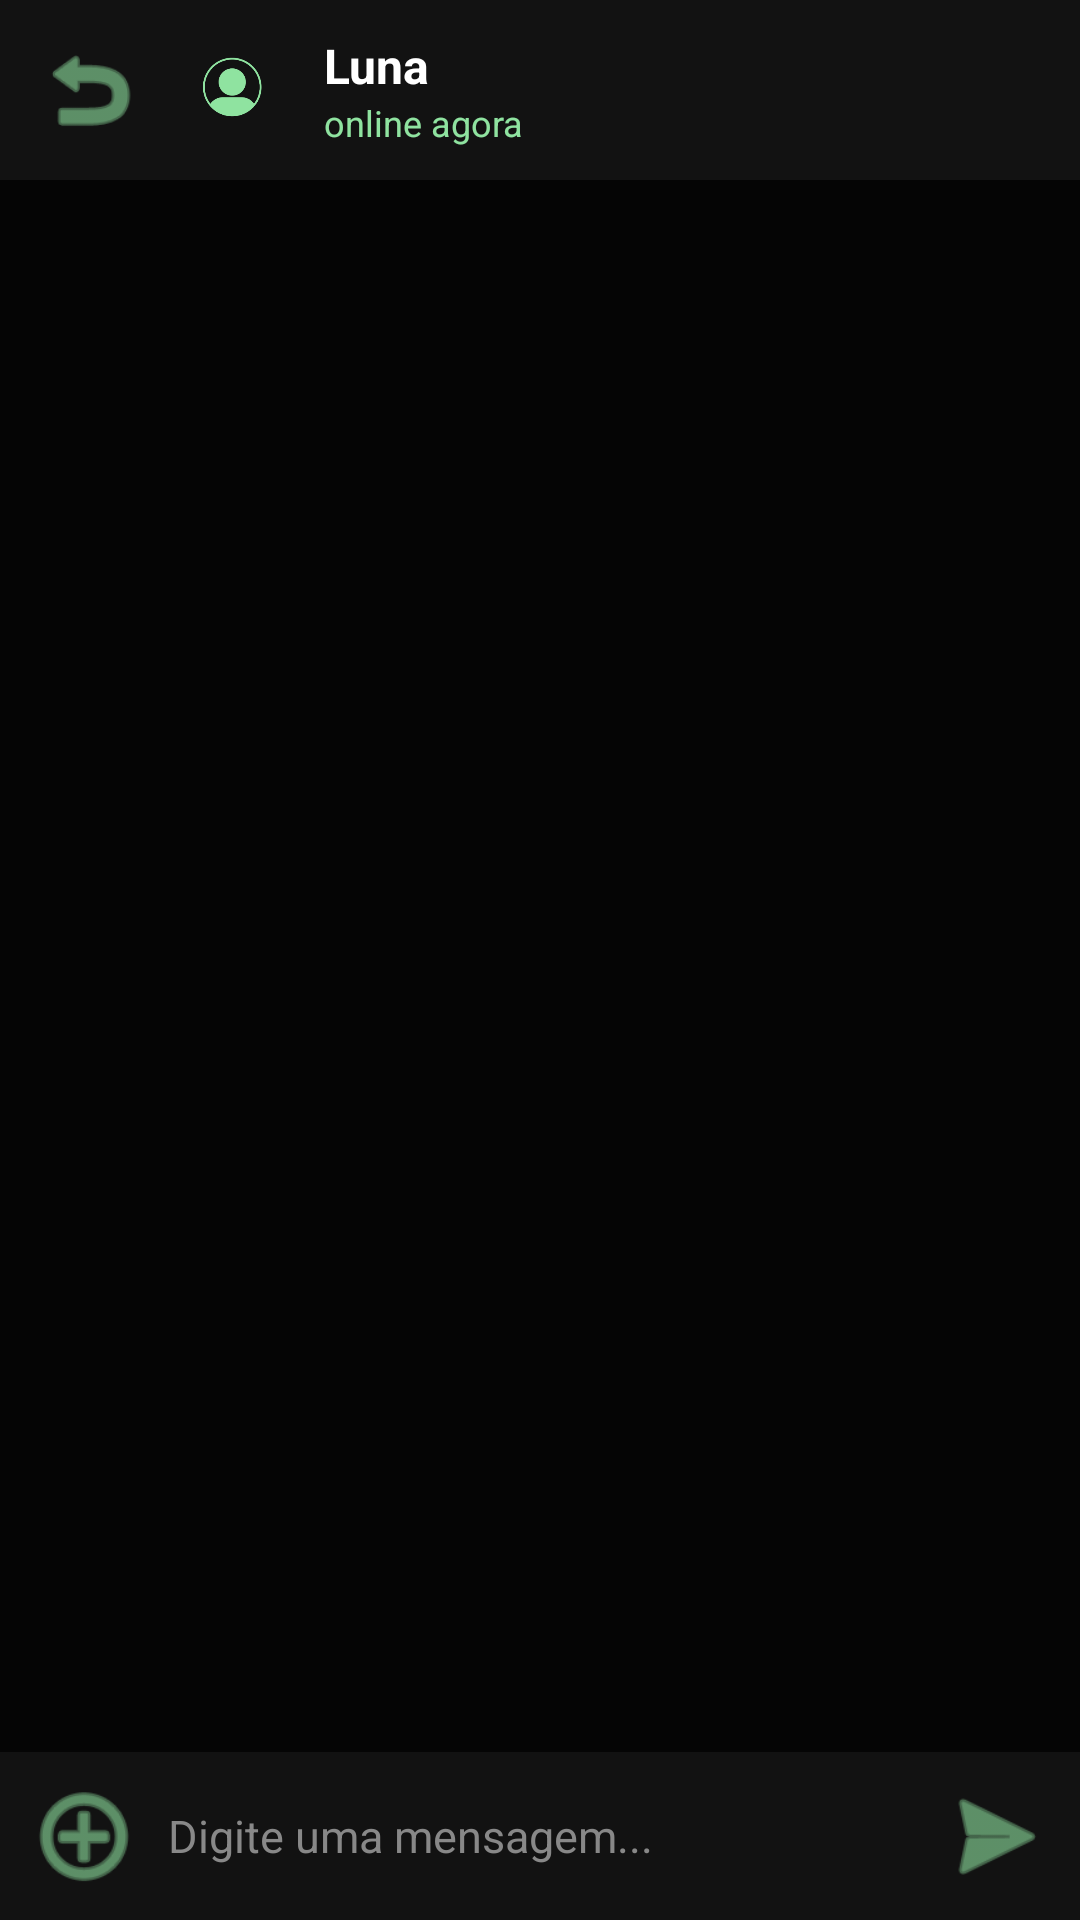

Screen size 1080px×1920px. Icon name, then its center in pixels as point (x, y):
Anexo: point (84, 1836)
Enviar: point (997, 1836)
Perfil Suporte: point (232, 87)
Voltar: point (91, 91)
